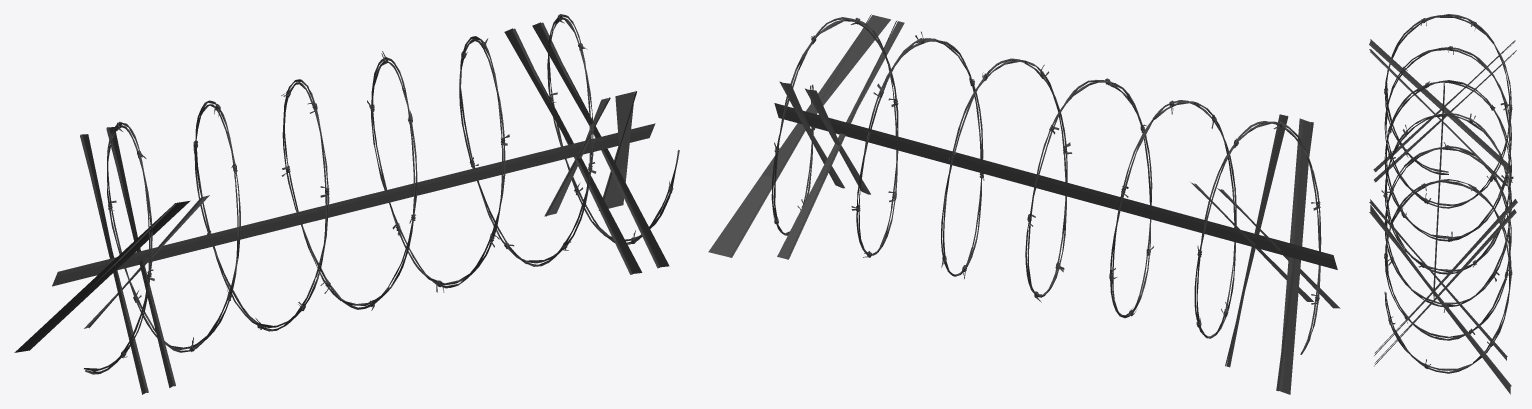
The model's file is BarbedWire02.obj.
3 views of the same model, side by side, from view 1: azimuth 30°, elevation 25°; view 2: azimuth 150°, elevation 25°; view 3: azimuth 270°, elevation 25° (orthographic). The views are drawn at different scales.
Parts seen in each view (by area): view 1: Helix003; view 2: Helix003; view 3: Helix003.
Boxes of the visible parts, x1=… form: Helix003: x1=14, y1=14, x2=679, y2=394; Helix003: x1=708, y1=14, x2=1340, y2=394; Helix003: x1=1369, y1=14, x2=1517, y2=394.
Size of the model in its own units: 87.06 by 33.12 by 23.82.
1 material, 1 textured.
